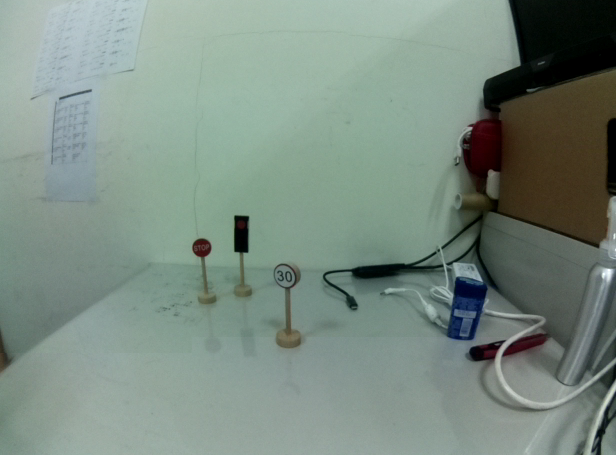Red: (230, 214, 252, 257)
Speed30: (272, 260, 302, 289)
Stop: (191, 236, 212, 259)
